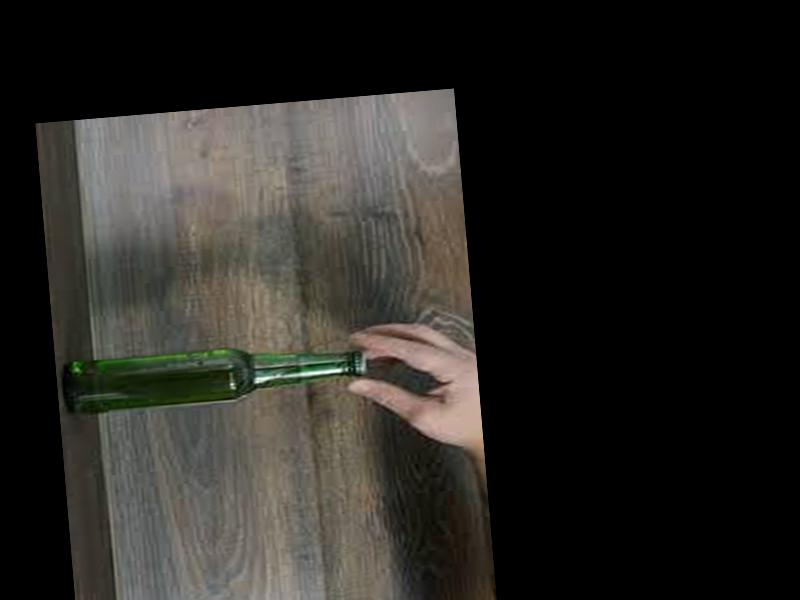Beer: (62, 337, 370, 416)
